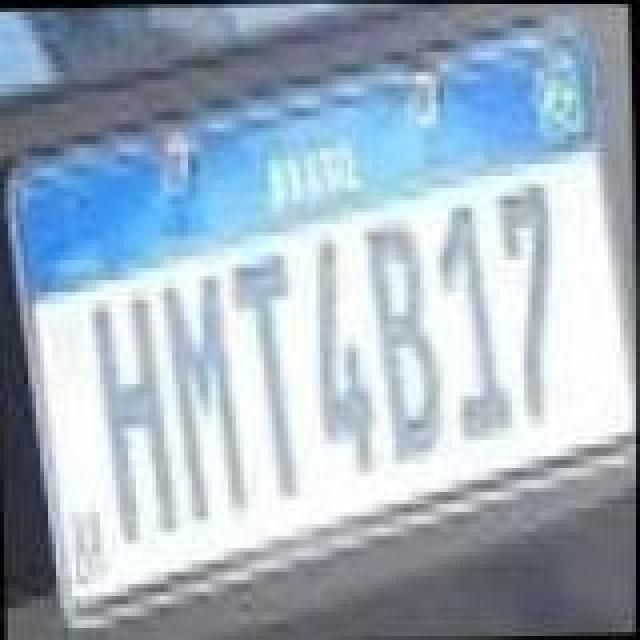1: (436, 200, 520, 444)
4: (316, 236, 384, 480)
7: (494, 178, 558, 430)
B: (364, 216, 448, 468)
H: (88, 288, 180, 544)
M: (158, 274, 254, 530)
T: (228, 250, 304, 506)
